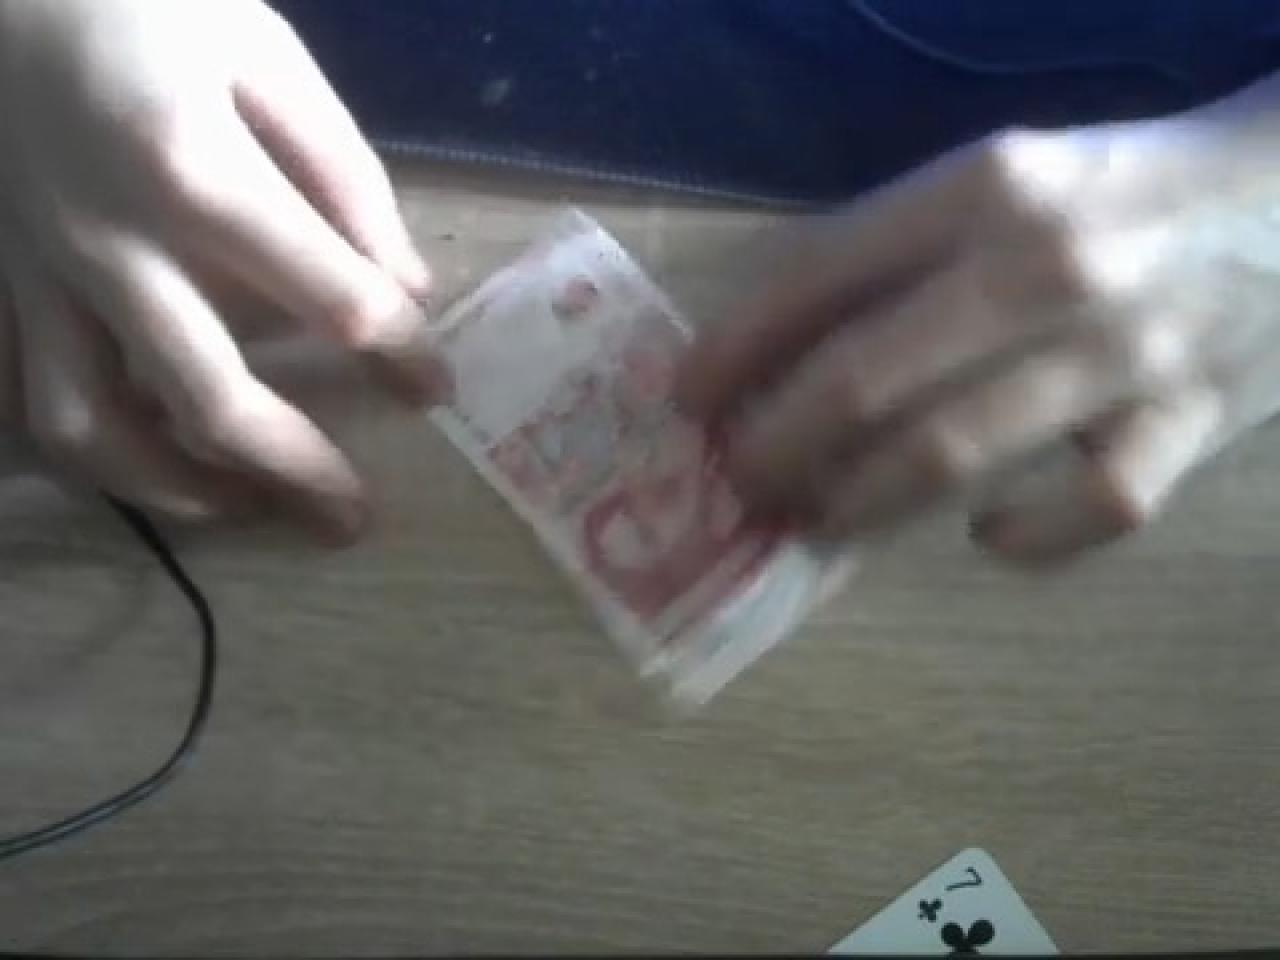5leva: (368, 208, 851, 712)
